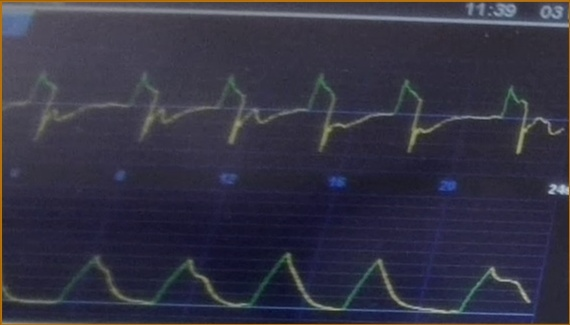Premature_cycling Flow: (5, 59, 566, 158)
Premature_cycling Volume: (5, 224, 530, 313)
